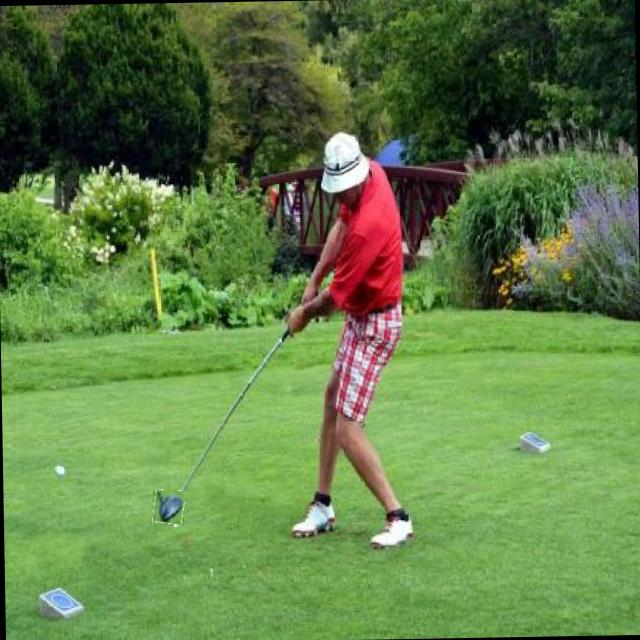club head: (152, 489, 184, 526)
